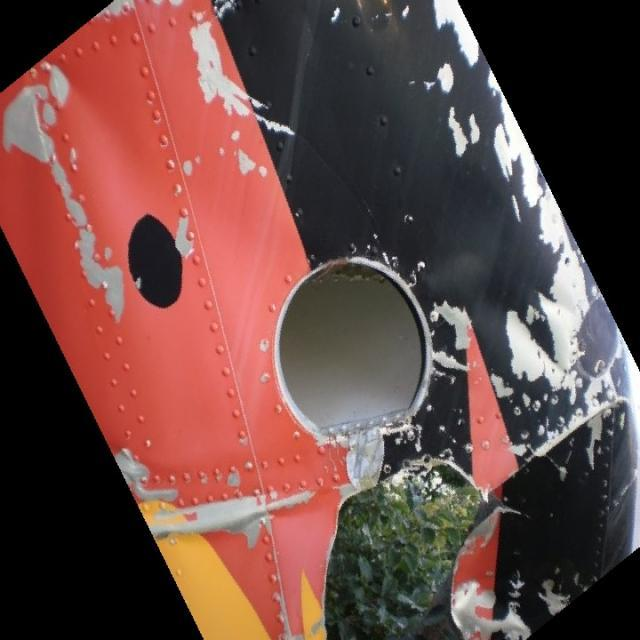dent: (47, 65, 143, 228), (421, 175, 504, 298), (475, 285, 521, 334)
